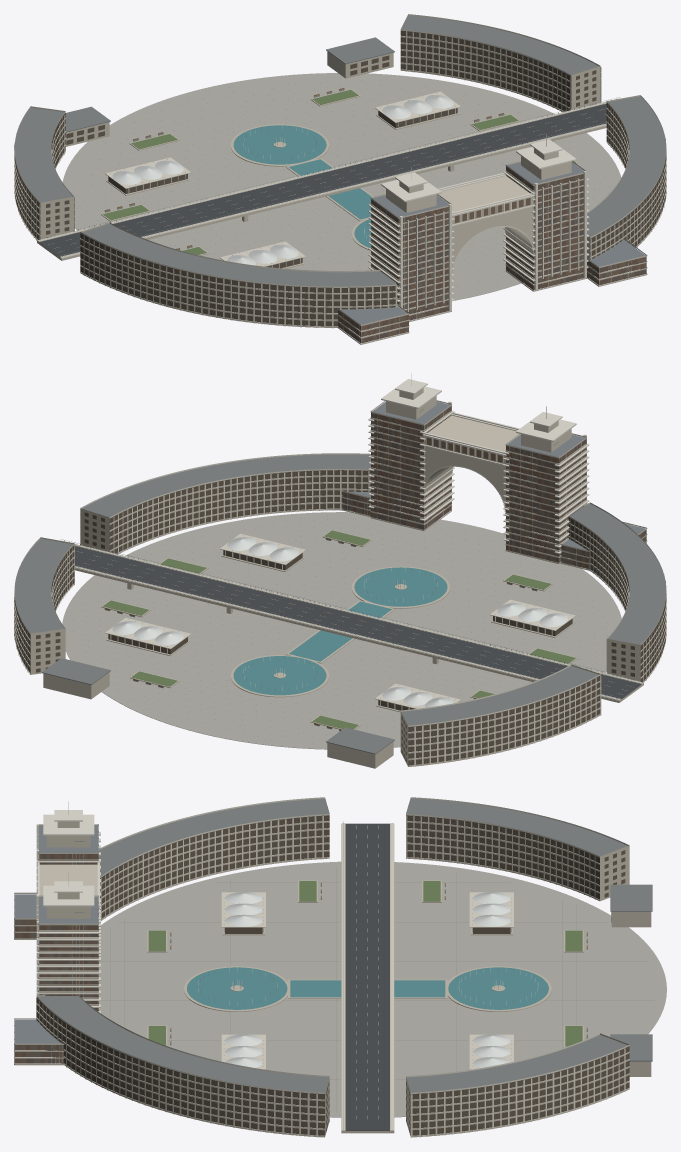
File: arch-r2.glb
3 views of the same model, one above another, from view 1: azimuth 30°, elevation 25°; view 2: azimuth 150°, elevation 25°; view 3: azimuth 270°, elevation 25° (orthographic). The views are drawn at different scales.
Visible parts, largest first — view 1: Court paving, Court bronze, Court roof, Court cornice, Court limestone, Court asphalt, Portal Arch stone, Portal Arch frame, Court water, Portal Arch glass0, Portal Arch glass2, Portal Arch glass1 (+5 smaller); view 2: Court paving, Court bronze, Court roof, Court cornice, Court limestone, Portal Arch stone, Court asphalt, Court water, Portal Arch frame, Portal Arch glass2, Portal Arch glass3, Court canopy (+5 smaller); view 3: Court paving, Court bronze, Court cornice, Court roof, Court limestone, Court asphalt, Court water, Portal Arch frame, Portal Arch stone, Court canopy, Portal Arch roof, Court seam (+5 smaller).
Boxes of the visible parts, <box> form: Court paving: <box>62,73,621,306</box>; Court bronze: <box>14,30,666,326</box>; Court roof: <box>14,15,666,286</box>; Court cornice: <box>14,14,666,328</box>; Court limestone: <box>20,14,660,327</box>; Court asphalt: <box>39,103,606,257</box>; Portal Arch stone: <box>337,148,647,344</box>; Portal Arch frame: <box>338,133,645,342</box>; Court water: <box>233,125,372,247</box>; Portal Arch glass0: <box>338,170,643,342</box>; Portal Arch glass2: <box>338,167,646,341</box>; Portal Arch glass1: <box>338,169,646,336</box>; Court paving: <box>62,512,621,749</box>; Court bronze: <box>14,470,666,765</box>; Court roof: <box>14,454,666,754</box>; Court cornice: <box>14,453,666,766</box>; Court limestone: <box>19,466,660,768</box>; Portal Arch stone: <box>341,388,647,570</box>; Court asphalt: <box>75,546,641,699</box>; Court water: <box>233,567,447,695</box>; Portal Arch frame: <box>342,373,645,565</box>; Portal Arch glass2: <box>342,407,646,567</box>; Portal Arch glass3: <box>342,409,645,566</box>; Court canopy: <box>112,537,568,707</box>; Court paving: <box>98,861,666,1117</box>; Court bronze: <box>36,815,629,1135</box>; Court cornice: <box>36,797,629,1137</box>; Court roof: <box>38,798,652,1092</box>; Court limestone: <box>36,798,651,1137</box>; Court asphalt: <box>345,823,389,1130</box>; Court water: <box>187,967,548,1009</box>; Portal Arch frame: <box>14,801,100,1063</box>; Portal Arch stone: <box>14,821,98,1065</box>; Court canopy: <box>225,892,510,1067</box>; Portal Arch roof: <box>14,825,98,1043</box>; Court seam: <box>99,866,654,1112</box>.
Size of the model in its own units: 328 by 76.19 by 295.
